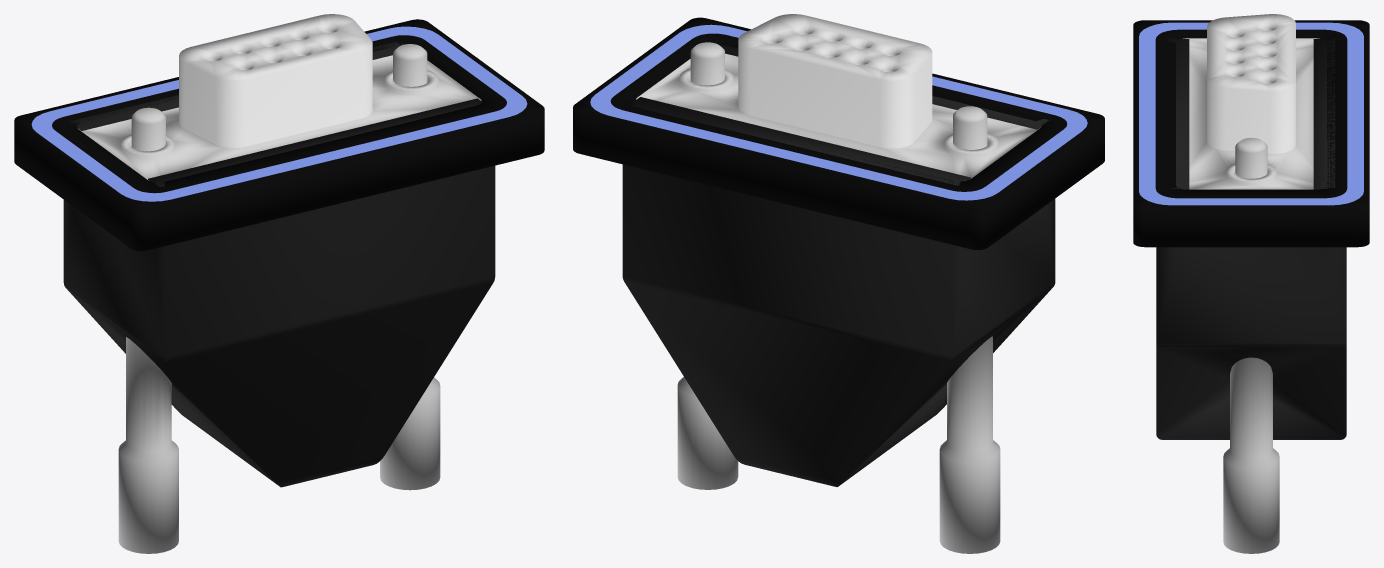
The model's file is dsub9.fbx.
3 renders of one model, left to right at view 1: azimuth 30°, elevation 25°; view 2: azimuth 150°, elevation 25°; view 3: azimuth 270°, elevation 25°, orthographic. The views are drawn at different scales.
Visible parts, largest first — view 1: G-1135975; view 2: G-1135975; view 3: G-1135975.
Part boxes in pixels (x1,y1,x2,y2): G-1135975: [14, 14, 544, 553]; G-1135975: [573, 14, 1104, 553]; G-1135975: [1133, 14, 1369, 553].
Bounding box in the file's own units: 3.94 × 4.21 × 2.1.
